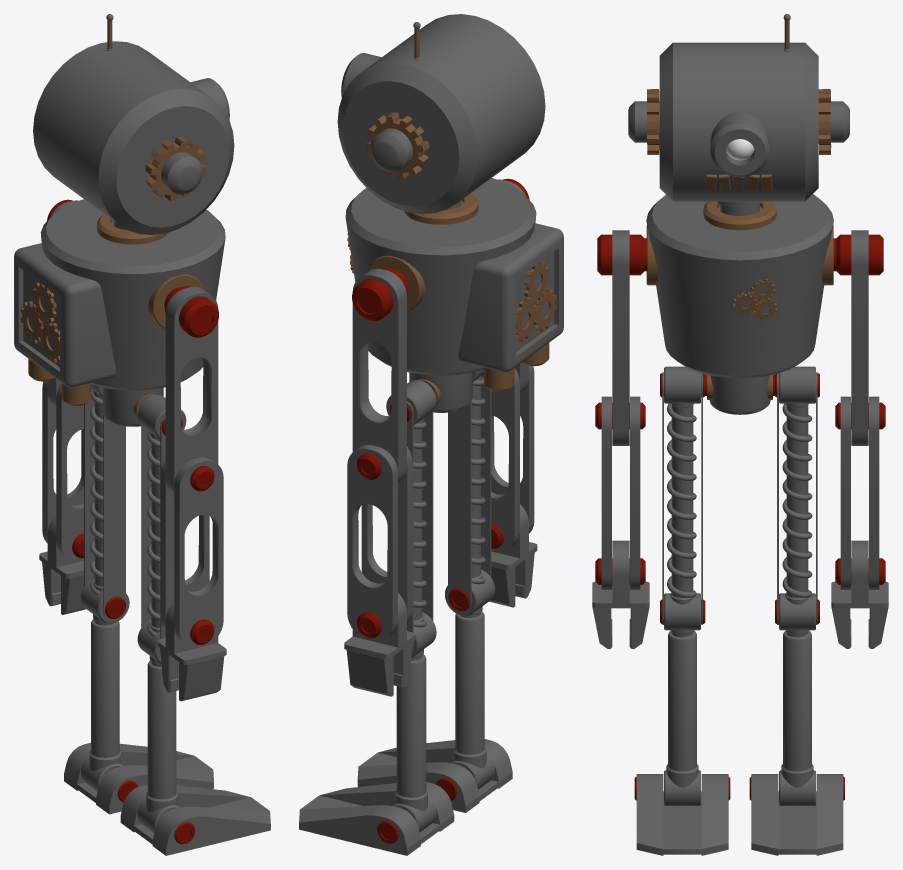
Rendered from Robo_1.fbx.
3 views of the same model, side by side, from view 1: azimuth 30°, elevation 25°; view 2: azimuth 150°, elevation 25°; view 3: azimuth 270°, elevation 25° (orthographic). The views are drawn at different scales.
Visible parts, largest first — view 1: Torso_1, Cabeca_1, BracoDir_1, PernaEsq_1, PernaDir_1, BracoEsq_1; view 2: Torso_1, Cabeca_1, BracoEsq_1, PernaDir_1, PernaEsq_1, BracoDir_1; view 3: Torso_1, Cabeca_1, PernaDir_1, PernaEsq_1, BracoEsq_1, BracoDir_1.
Boxes of the visible parts, x1,y1,x2,y2 form: Torso_1: (14,199,225,426); Cabeca_1: (33,14,234,234); BracoDir_1: (157,286,226,701); PernaEsq_1: (64,385,213,814); PernaDir_1: (120,395,270,855); BracoEsq_1: (39,199,85,614); Torso_1: (345,178,563,412); Cabeca_1: (337,14,545,214); BracoEsq_1: (344,268,415,696); PernaDir_1: (357,369,512,812); PernaEsq_1: (299,380,454,855); BracoDir_1: (489,178,537,607); Torso_1: (646,194,833,414); Cabeca_1: (628,14,849,215); PernaDir_1: (634,366,730,855); PernaEsq_1: (749,366,844,855); BracoEsq_1: (831,230,888,648); BracoDir_1: (592,230,649,648).
Bounding box in the file's own units: 393 × 1524 × 517.
